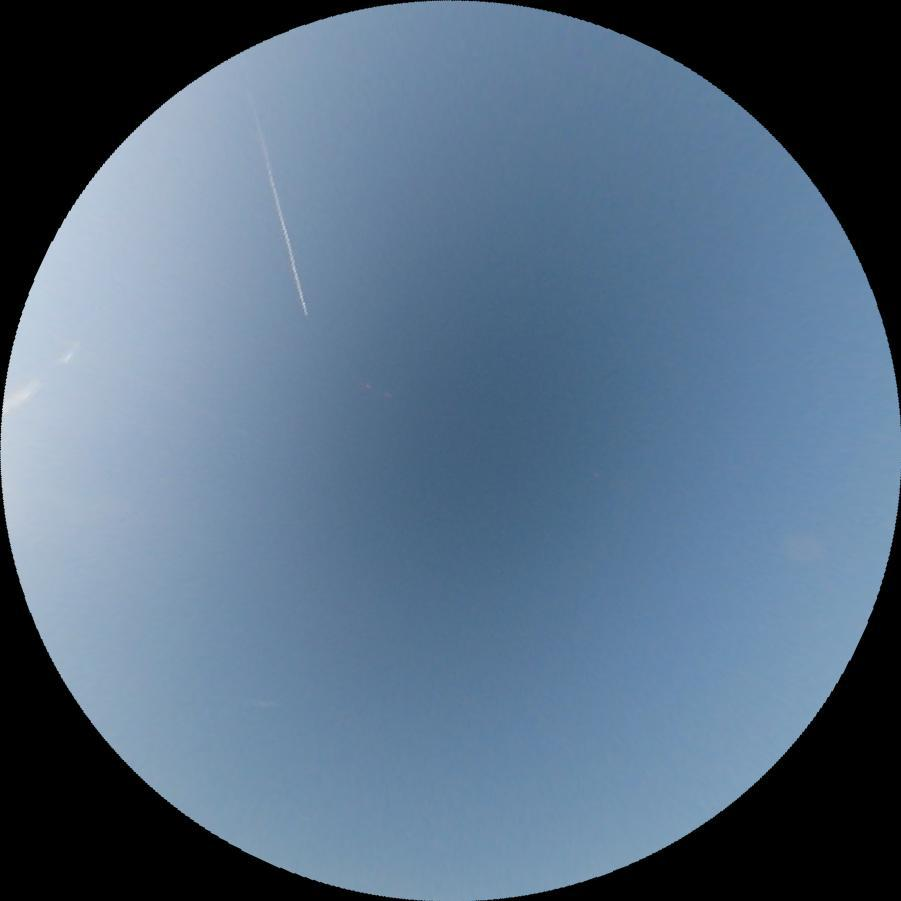contrail young: (246, 93, 309, 317)
unknow: (0, 339, 84, 417)
